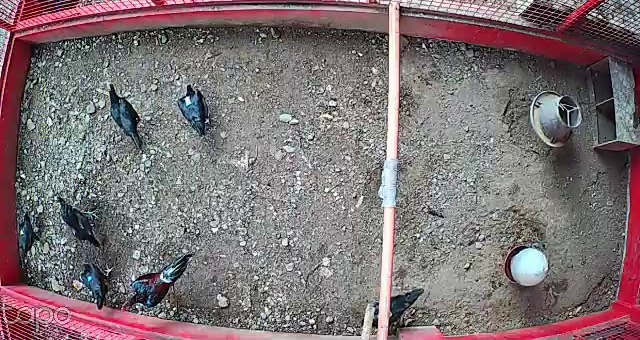Chicken: (105, 81, 147, 154), (361, 285, 424, 330), (57, 194, 105, 249), (173, 81, 214, 138), (78, 256, 116, 314), (17, 210, 46, 265)
Rooster: (118, 247, 197, 312)
Saddle_Color_Blue: (86, 275, 93, 281)
Saddle_Color_White: (185, 95, 190, 101)
Saddle_Color_Yellow: (20, 228, 25, 235)
